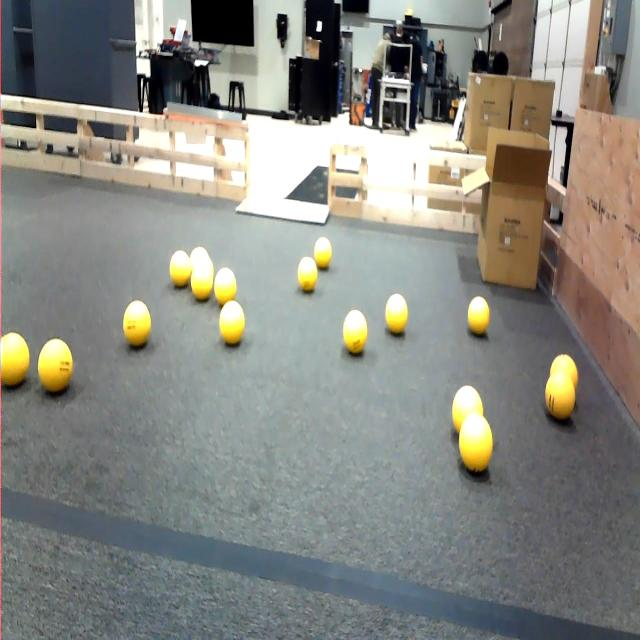fuel: (459, 414, 492, 472), (38, 338, 72, 392), (0, 332, 29, 388), (452, 385, 483, 432), (546, 371, 575, 420), (123, 300, 151, 347), (219, 301, 244, 344), (343, 310, 367, 354), (550, 354, 578, 391), (190, 259, 213, 301), (386, 294, 407, 334), (214, 267, 236, 305), (468, 296, 489, 335), (170, 250, 191, 287), (298, 256, 317, 292), (314, 237, 332, 269), (189, 246, 212, 268)
